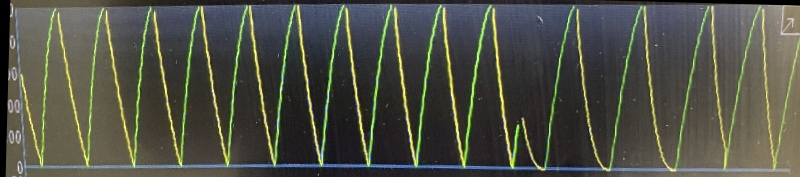normal_volume: (24, 1, 788, 174)
